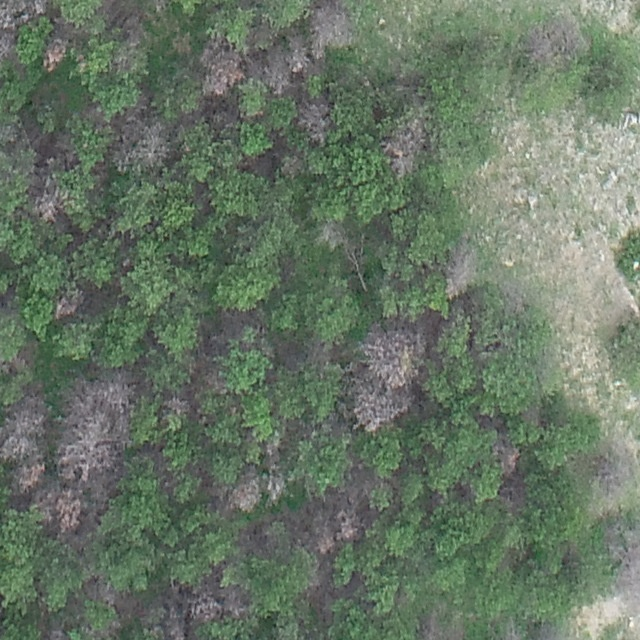unhealthy: (54, 372, 133, 481), (361, 322, 427, 385), (344, 381, 419, 432), (572, 441, 640, 497), (518, 12, 587, 67), (0, 394, 54, 464), (198, 37, 247, 97), (381, 116, 425, 181), (310, 0, 364, 49), (443, 237, 479, 298), (131, 122, 170, 169), (296, 96, 330, 142), (225, 470, 261, 513), (265, 40, 292, 96), (617, 544, 640, 606), (0, 0, 47, 29), (287, 30, 314, 73), (52, 495, 84, 530), (28, 476, 58, 513), (53, 287, 84, 322), (80, 578, 120, 605), (491, 441, 522, 475), (333, 510, 364, 544), (187, 597, 223, 624), (11, 464, 44, 493), (314, 220, 346, 249), (220, 586, 248, 619), (37, 188, 64, 222), (41, 40, 67, 71), (121, 16, 145, 49), (306, 339, 335, 366), (262, 474, 290, 501), (167, 607, 185, 640), (164, 395, 188, 415), (314, 531, 336, 552), (0, 31, 14, 57)
